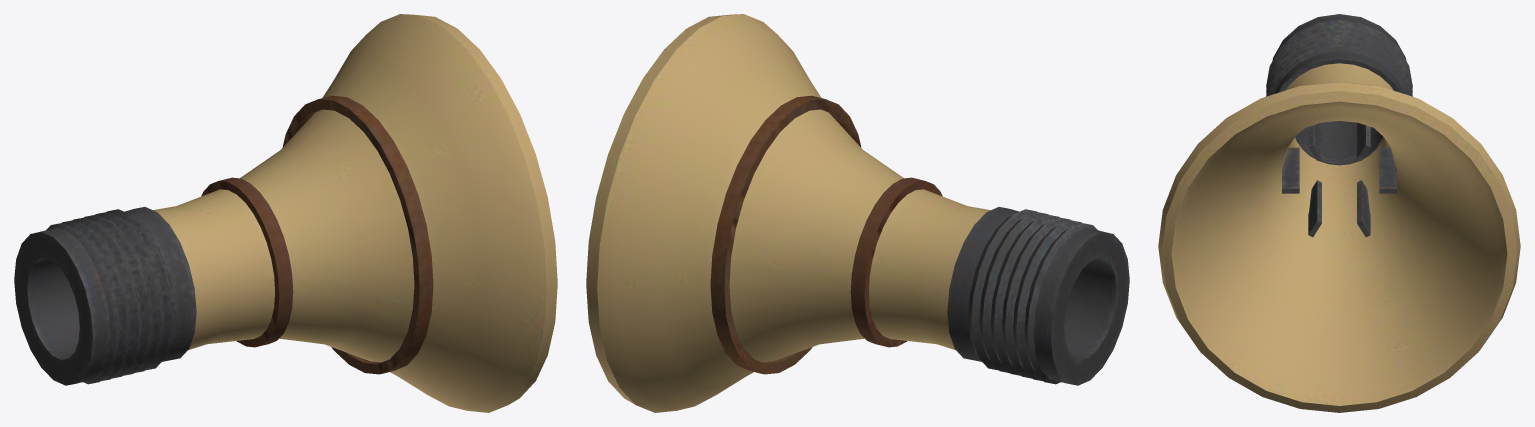
Rendered from bell_choke.glb.
3 renders of one model, left to right at view 1: azimuth 30°, elevation 25°; view 2: azimuth 150°, elevation 25°; view 3: azimuth 270°, elevation 25°, orthographic. The views are drawn at different scales.
Parts seen in each view (by area): view 1: bell_choke; view 2: bell_choke; view 3: bell_choke.
Part boxes in pixels (x1=…): bell_choke: x1=14, y1=14, x2=557, y2=412; bell_choke: x1=586, y1=14, x2=1129, y2=412; bell_choke: x1=1158, y1=14, x2=1520, y2=412.
Bounding box in the file's own units: 0.0945 × 0.082 × 0.082.
1 material, 1 textured.
